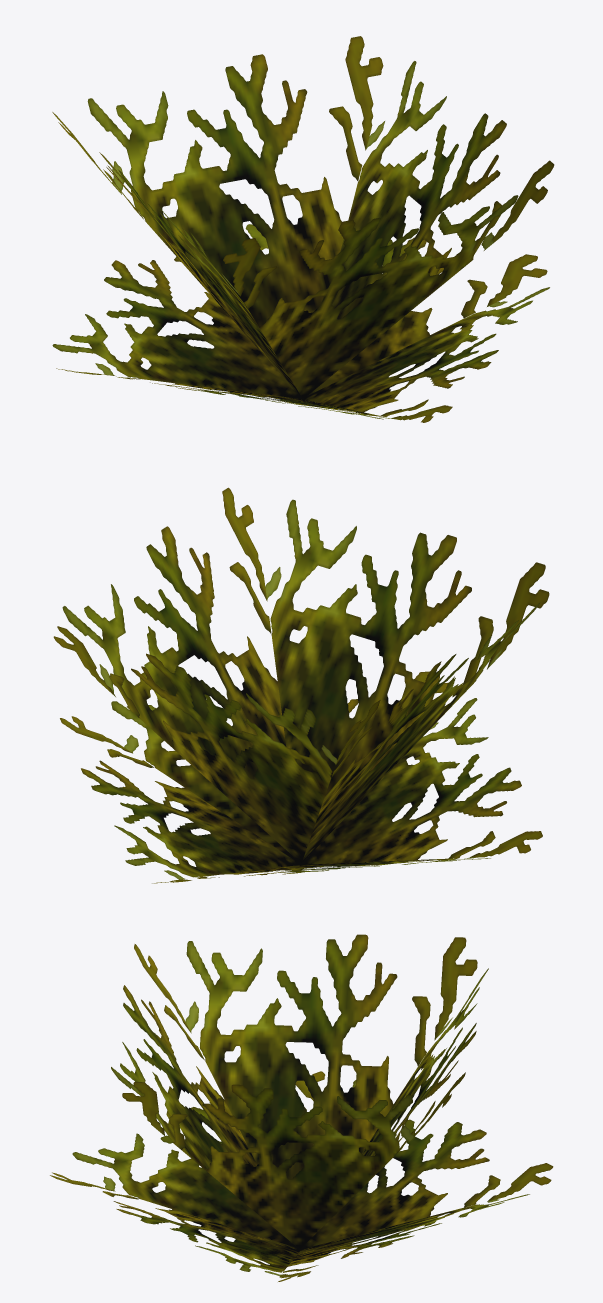
File: naflbu18.dae
3 views of the same model, one above another, from view 1: azimuth 30°, elevation 25°; view 2: azimuth 150°, elevation 25°; view 3: azimuth 270°, elevation 25° (orthographic). The views are drawn at different scales.
Parts seen in each view (by area): view 1: crown2; view 2: crown2; view 3: crown2.
Part boxes in pixels (box(x1,y1,x2,y2)): crown2: box(52, 36, 554, 422); crown2: box(53, 487, 549, 883); crown2: box(50, 934, 553, 1281).
Bounding box in the file's own units: 0.6533 × 0.6559 × 0.3146.
1 material, 1 textured.
